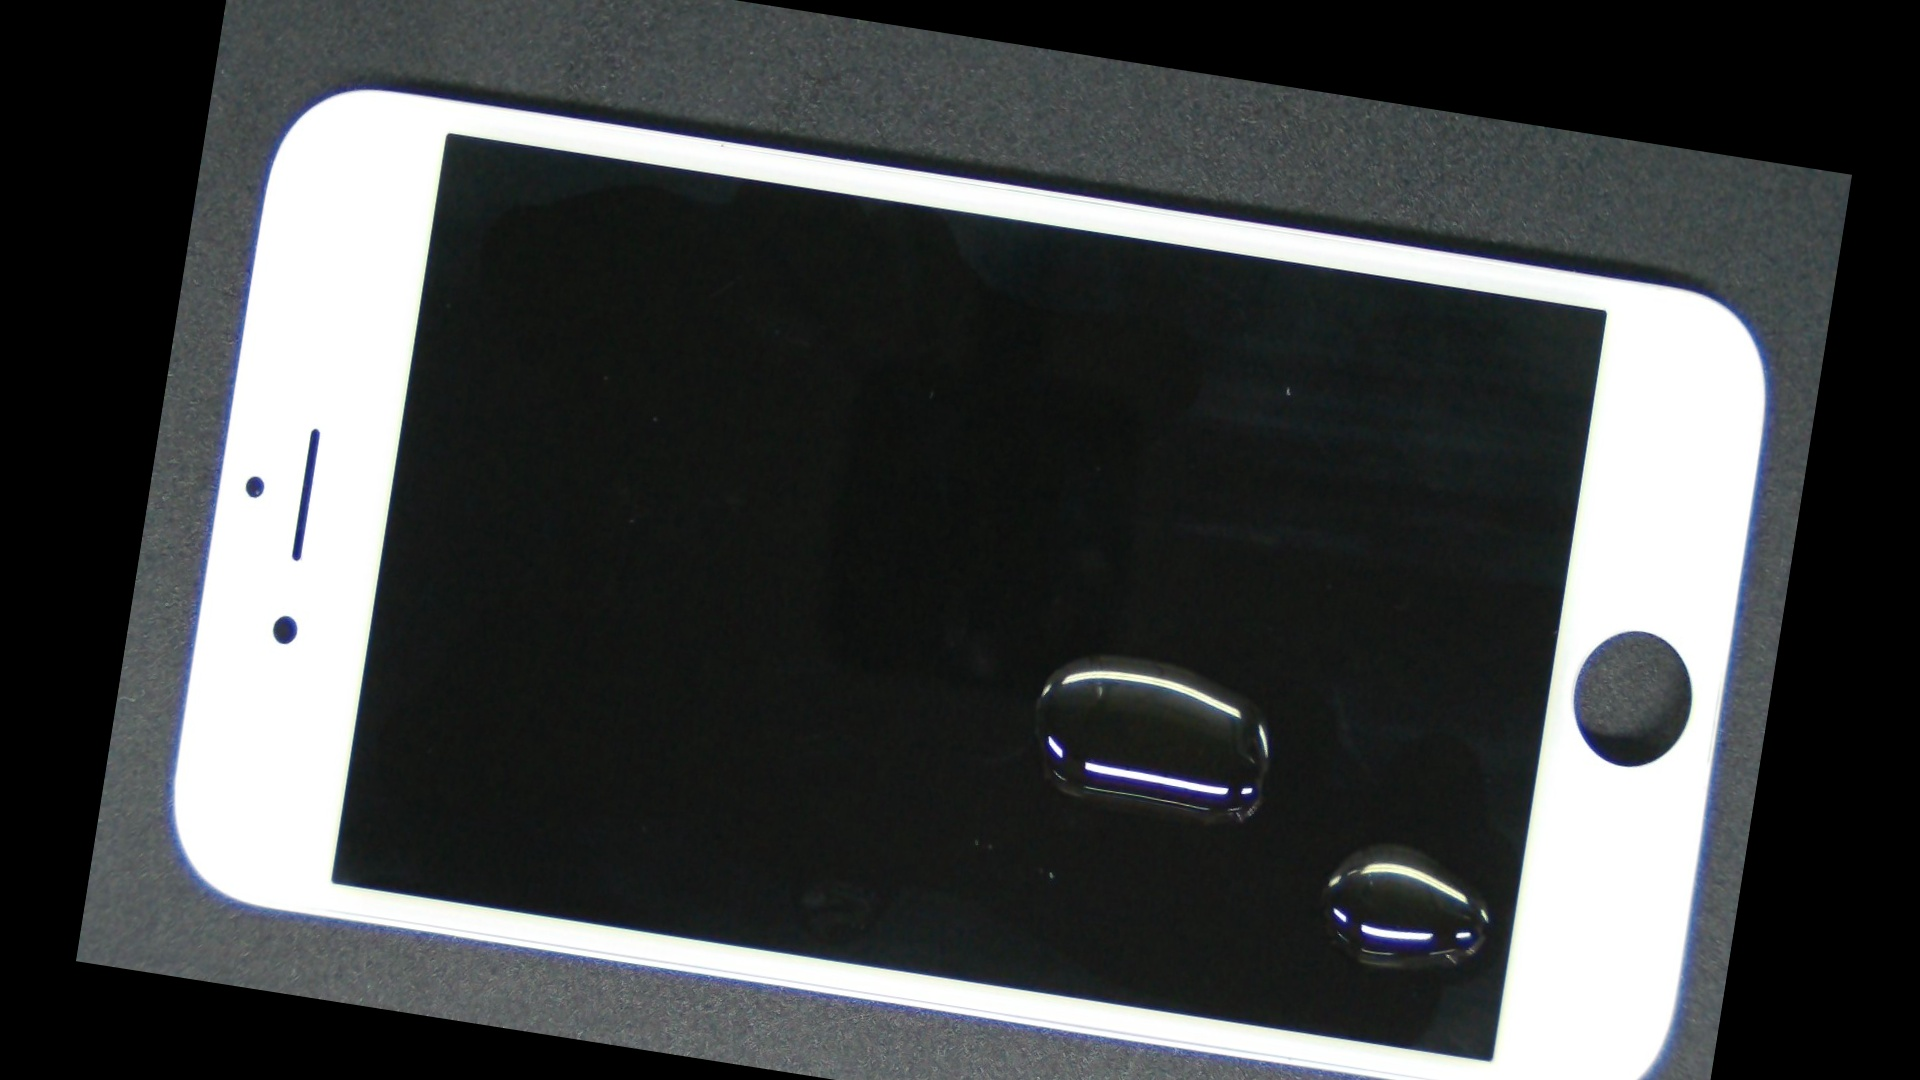oil: (603, 290, 1693, 1027), (711, 382, 1796, 1080)
